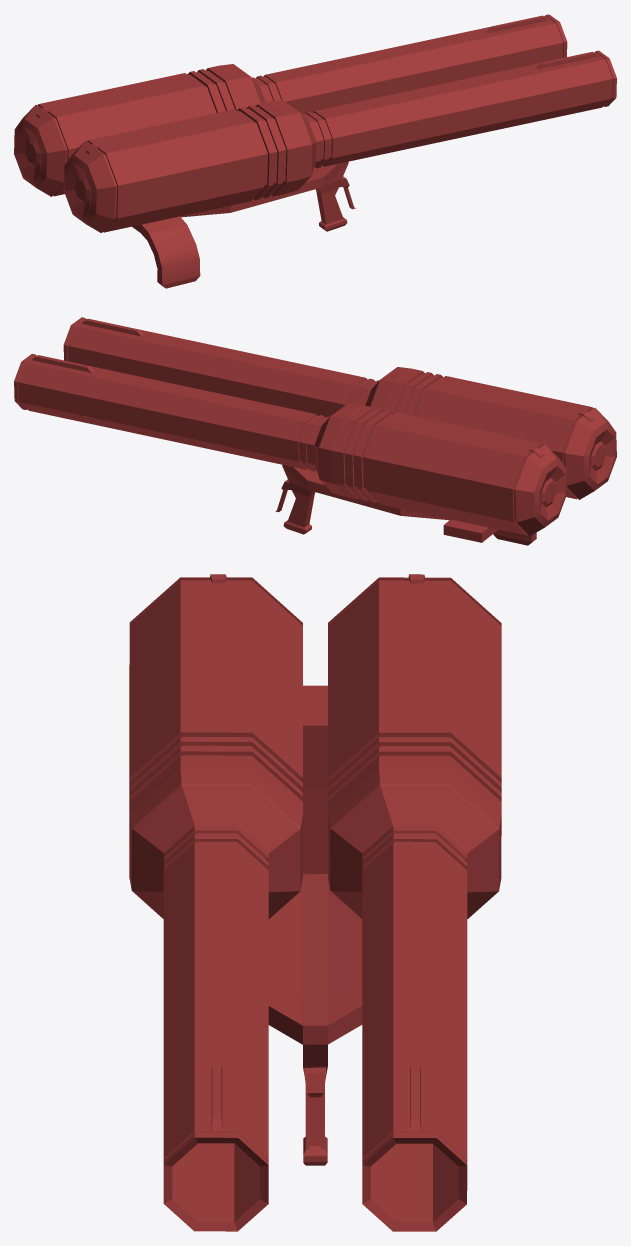
File: potatogun.fbx
3 renders of one model, top to bottom at view 1: azimuth 30°, elevation 25°; view 2: azimuth 150°, elevation 25°; view 3: azimuth 270°, elevation 25°, orthographic. The views are drawn at different scales.
Visible parts, largest first — view 1: pPipe3; view 2: pPipe3; view 3: pPipe3.
Part boxes in pixels (x1,y1,x2,y2): pPipe3: (14,14,616,288); pPipe3: (14,317,616,545); pPipe3: (129,574,501,1231).
Size of the model in its own units: 22.56 by 6.73 by 6.9.
